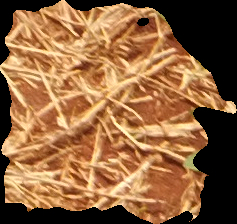soil: (2, 3, 237, 223)
